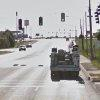Traffic light: (7, 7, 76, 39)
